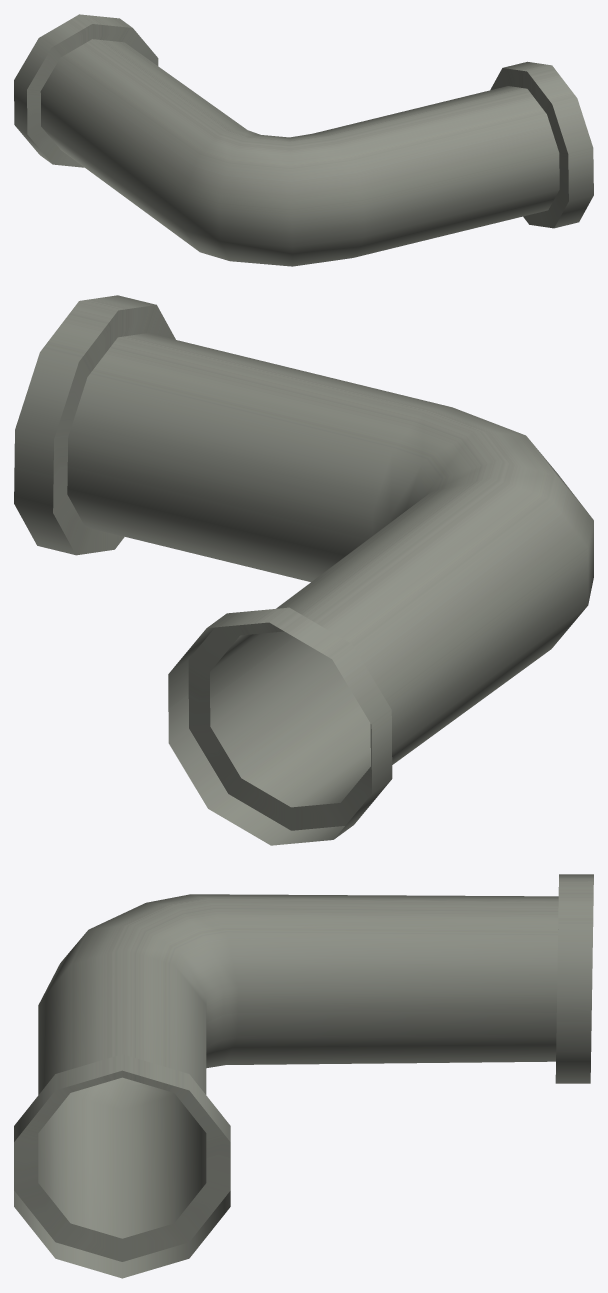
The model's file is pipe_2_06.fbx.
3 views of the same model, one above another, from view 1: azimuth 30°, elevation 25°; view 2: azimuth 150°, elevation 25°; view 3: azimuth 270°, elevation 25° (orthographic). The views are drawn at different scales.
Parts seen in each view (by area): view 1: Object029; view 2: Object029; view 3: Object029.
Part boxes in pixels (x1=…): Object029: x1=14, y1=14, x2=593, y2=266; Object029: x1=14, y1=295, x2=593, y2=845; Object029: x1=14, y1=874, x2=593, y2=1278.
Bounding box in the file's own units: 20.64 × 8.31 × 21.16.
